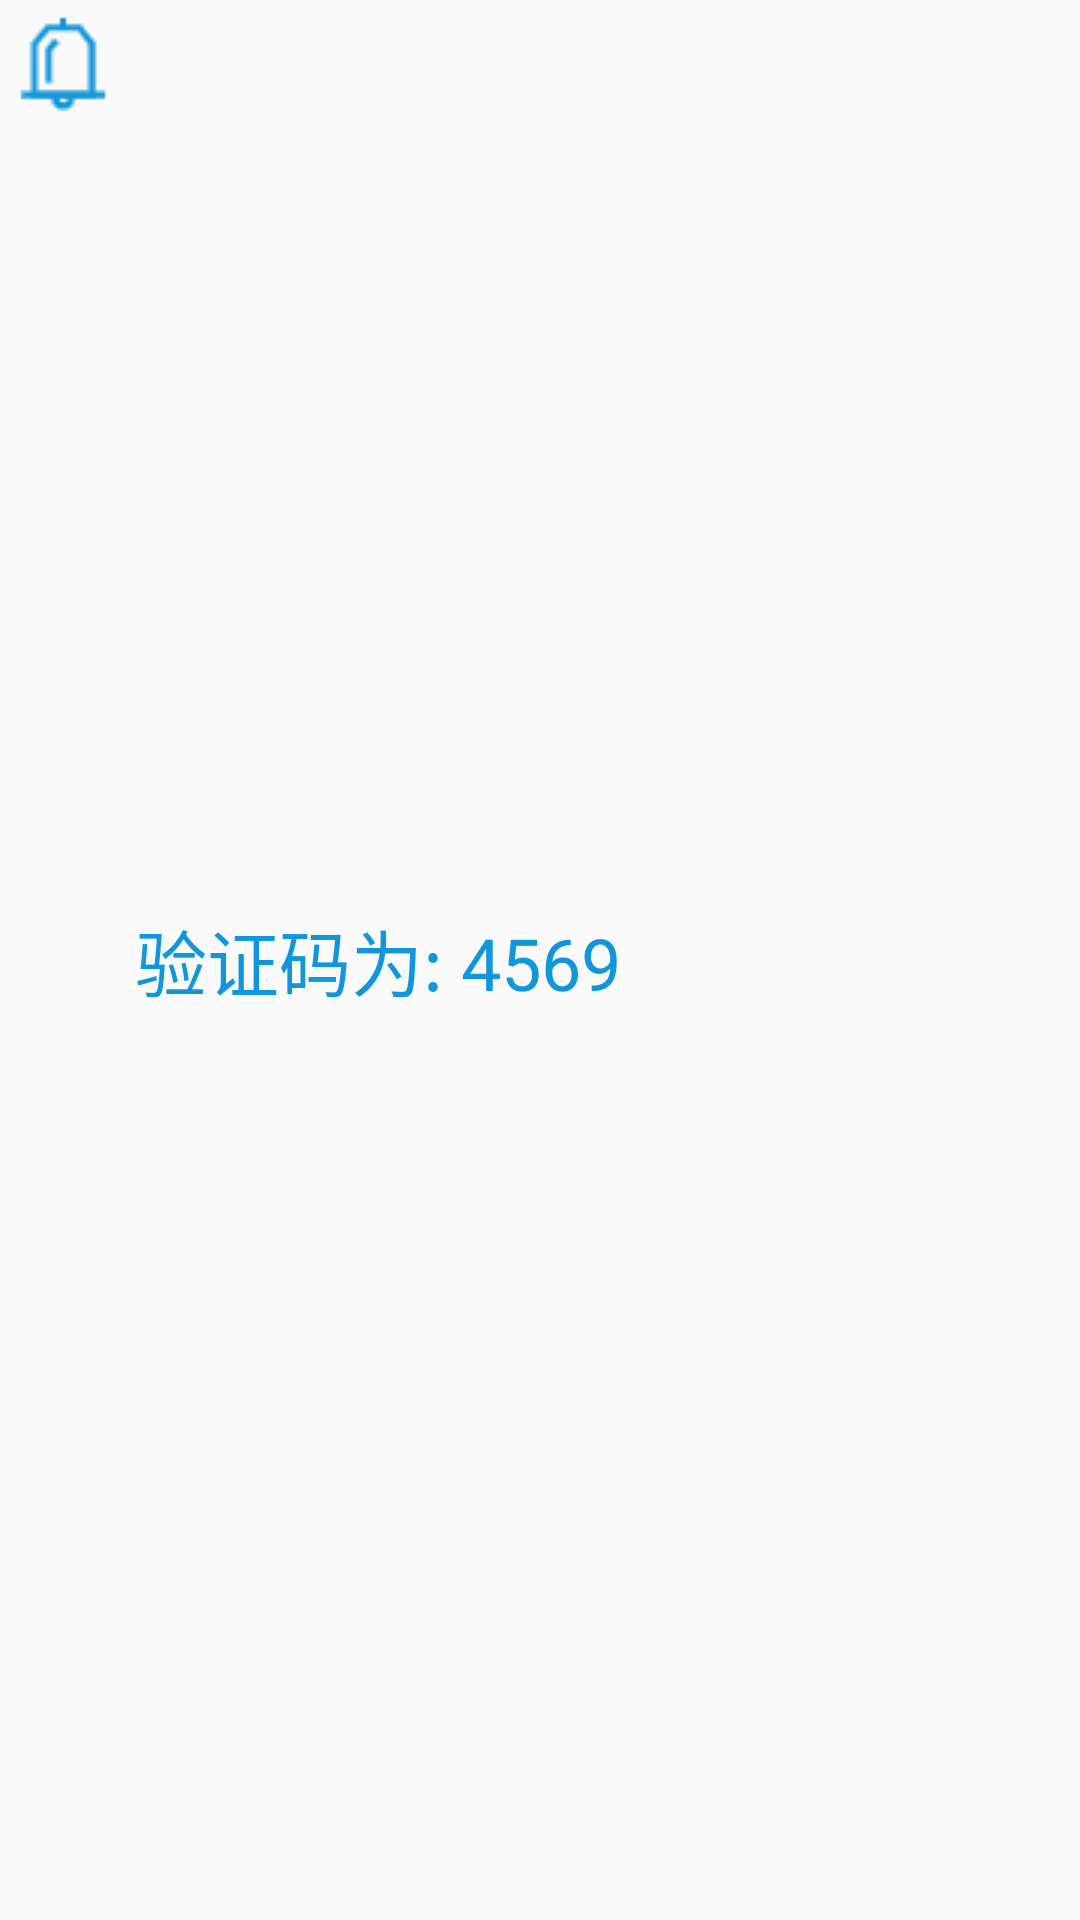

Screen size 1080 x 1920. Icon name, then its box in pixels as (x1, y1, x2, y2):
tip: (20, 17, 106, 111)
